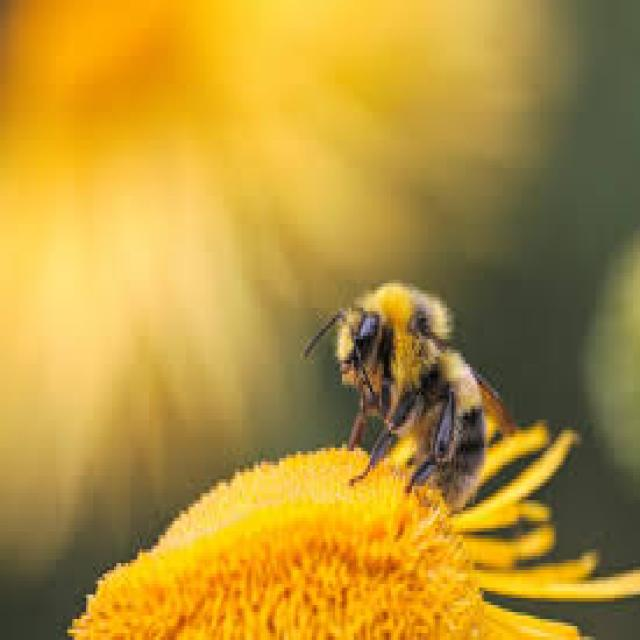Bees: (304, 281, 516, 514)
